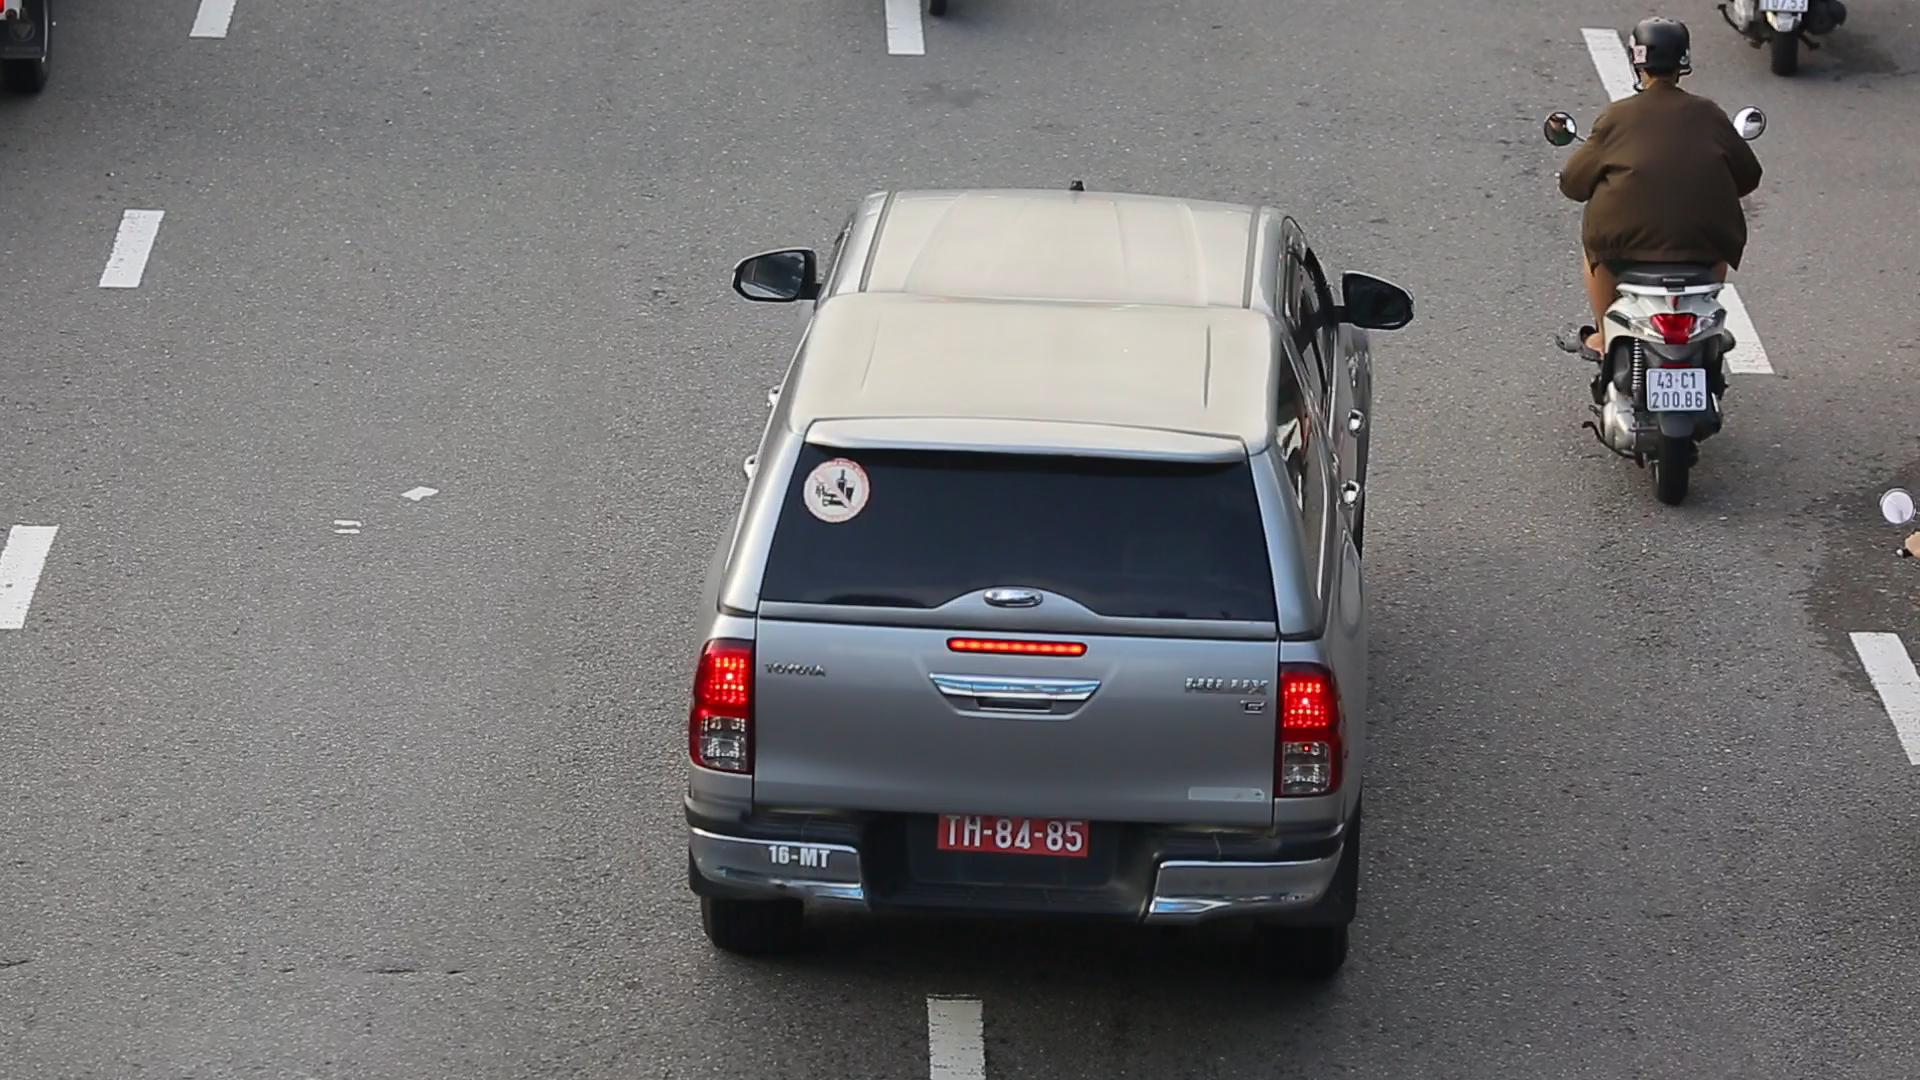motobike: (1543, 7, 1774, 512)
